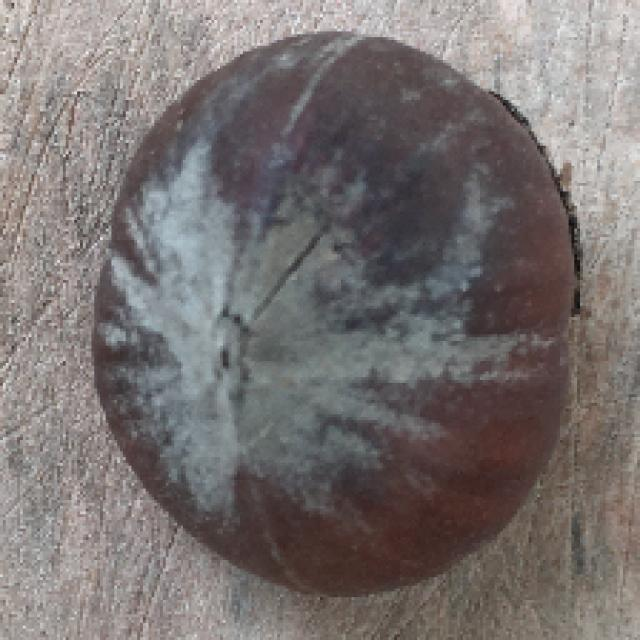damagedHazelnut: (94, 34, 581, 592)
